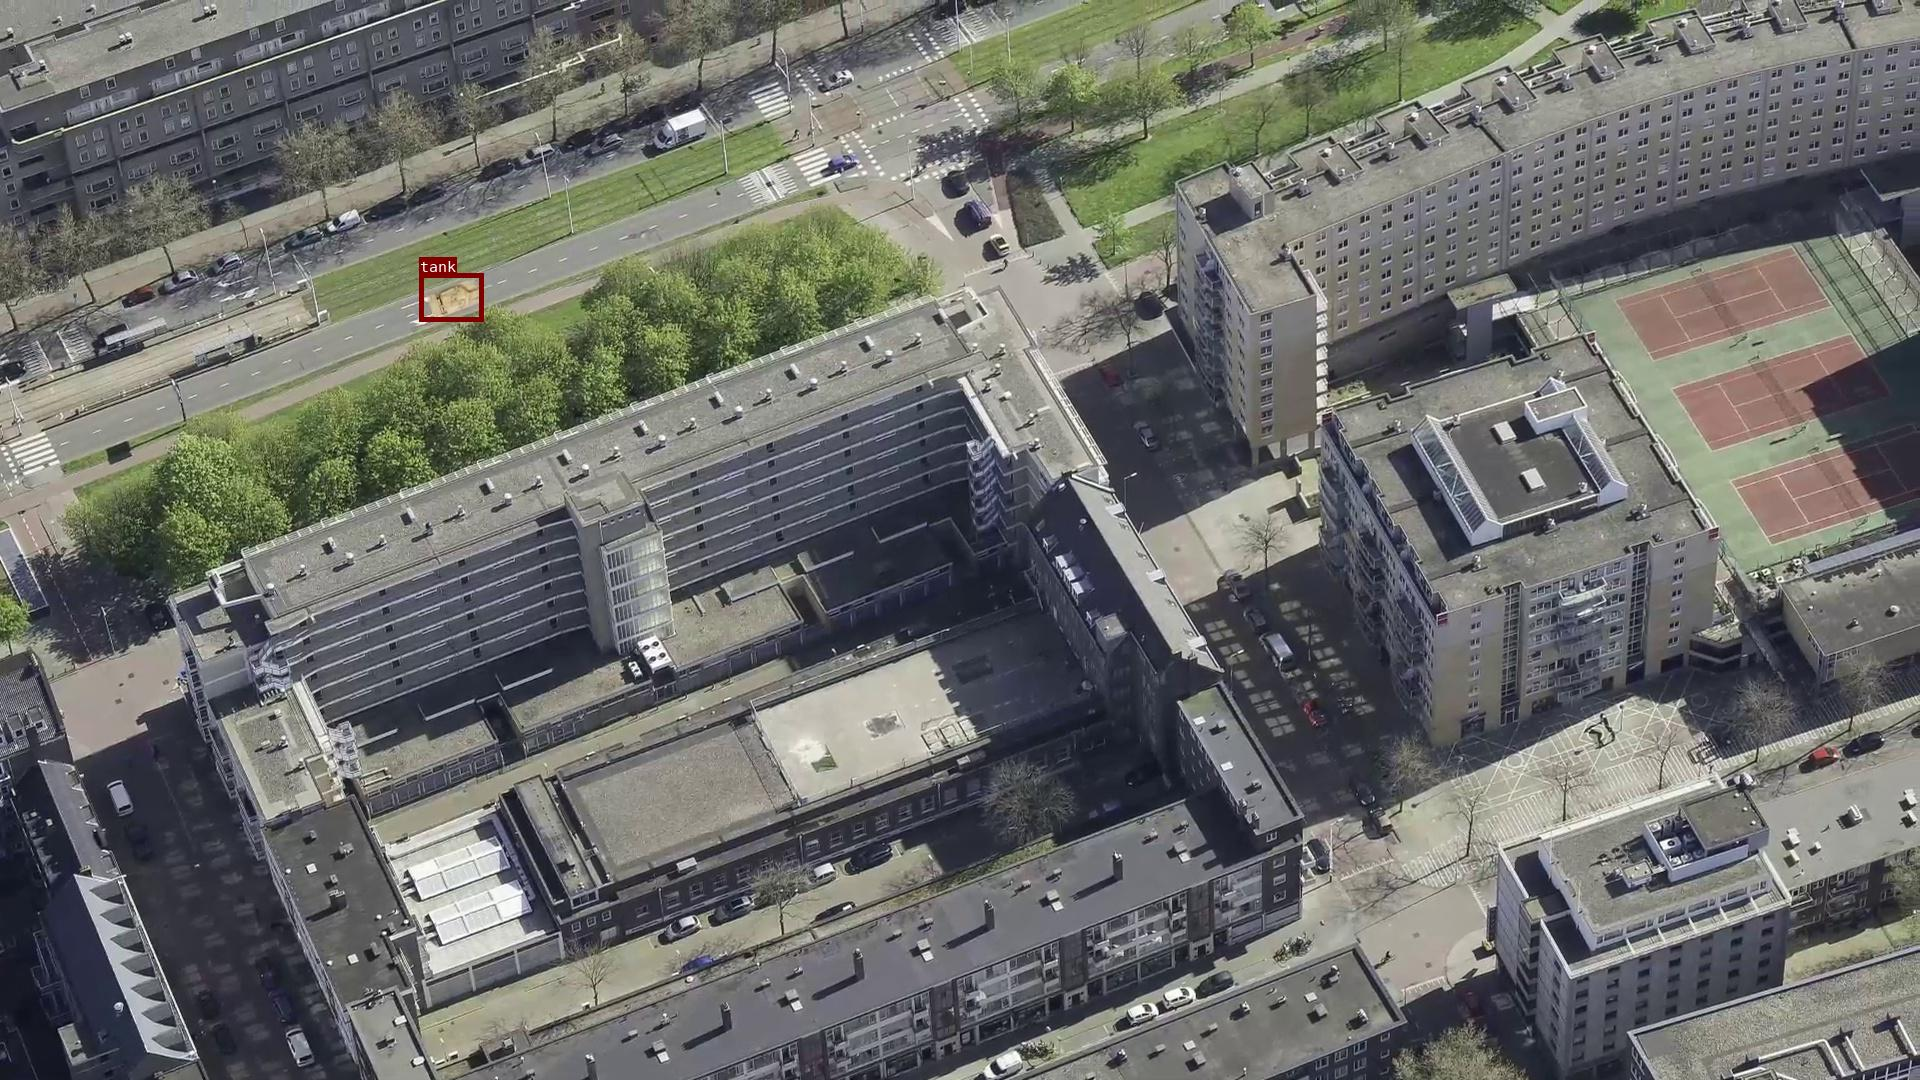tank: (419, 273, 483, 320)
